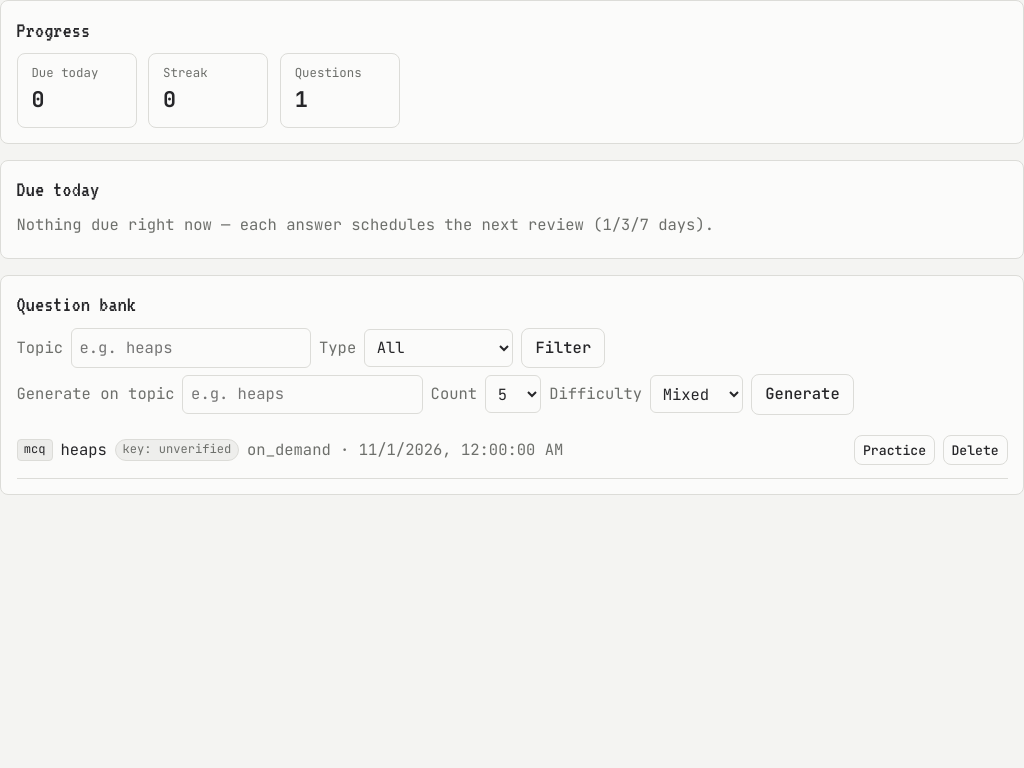
Test: PracticePage › deletes a bank question after confirming, warning about attempt history, and refreshes
# before the dialog opens, the row's Delete is the only one
Click the button "Delete" at (975, 450), box x1=943 y1=435 x2=1008 y2=465
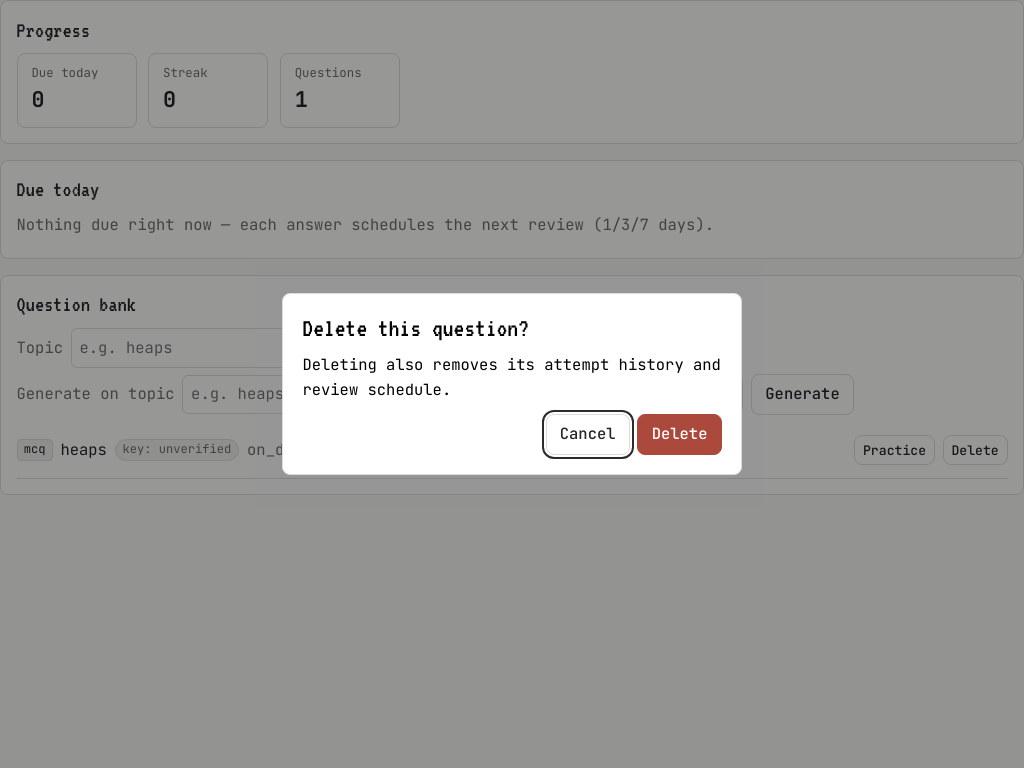
Expected: the text "attempt history" is shown, x1=302 y1=354 x2=721 y2=400
Click the button "Delete" at (680, 434), box x1=638 y1=414 x2=722 y2=455
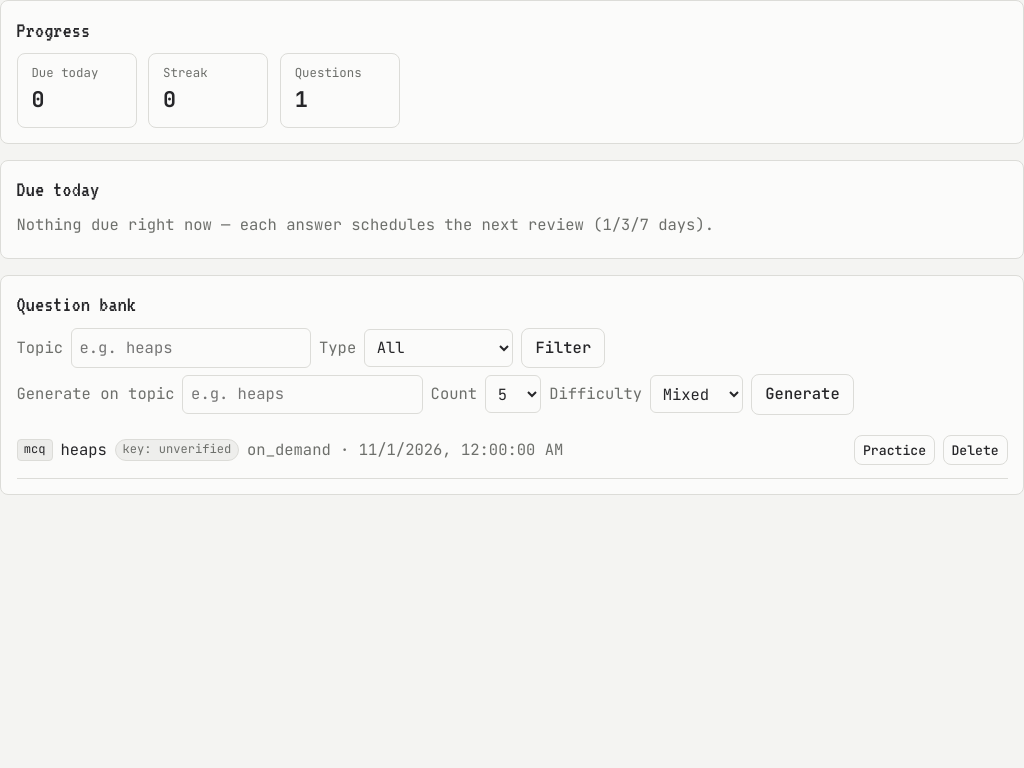
Expected: the dialog is gone
